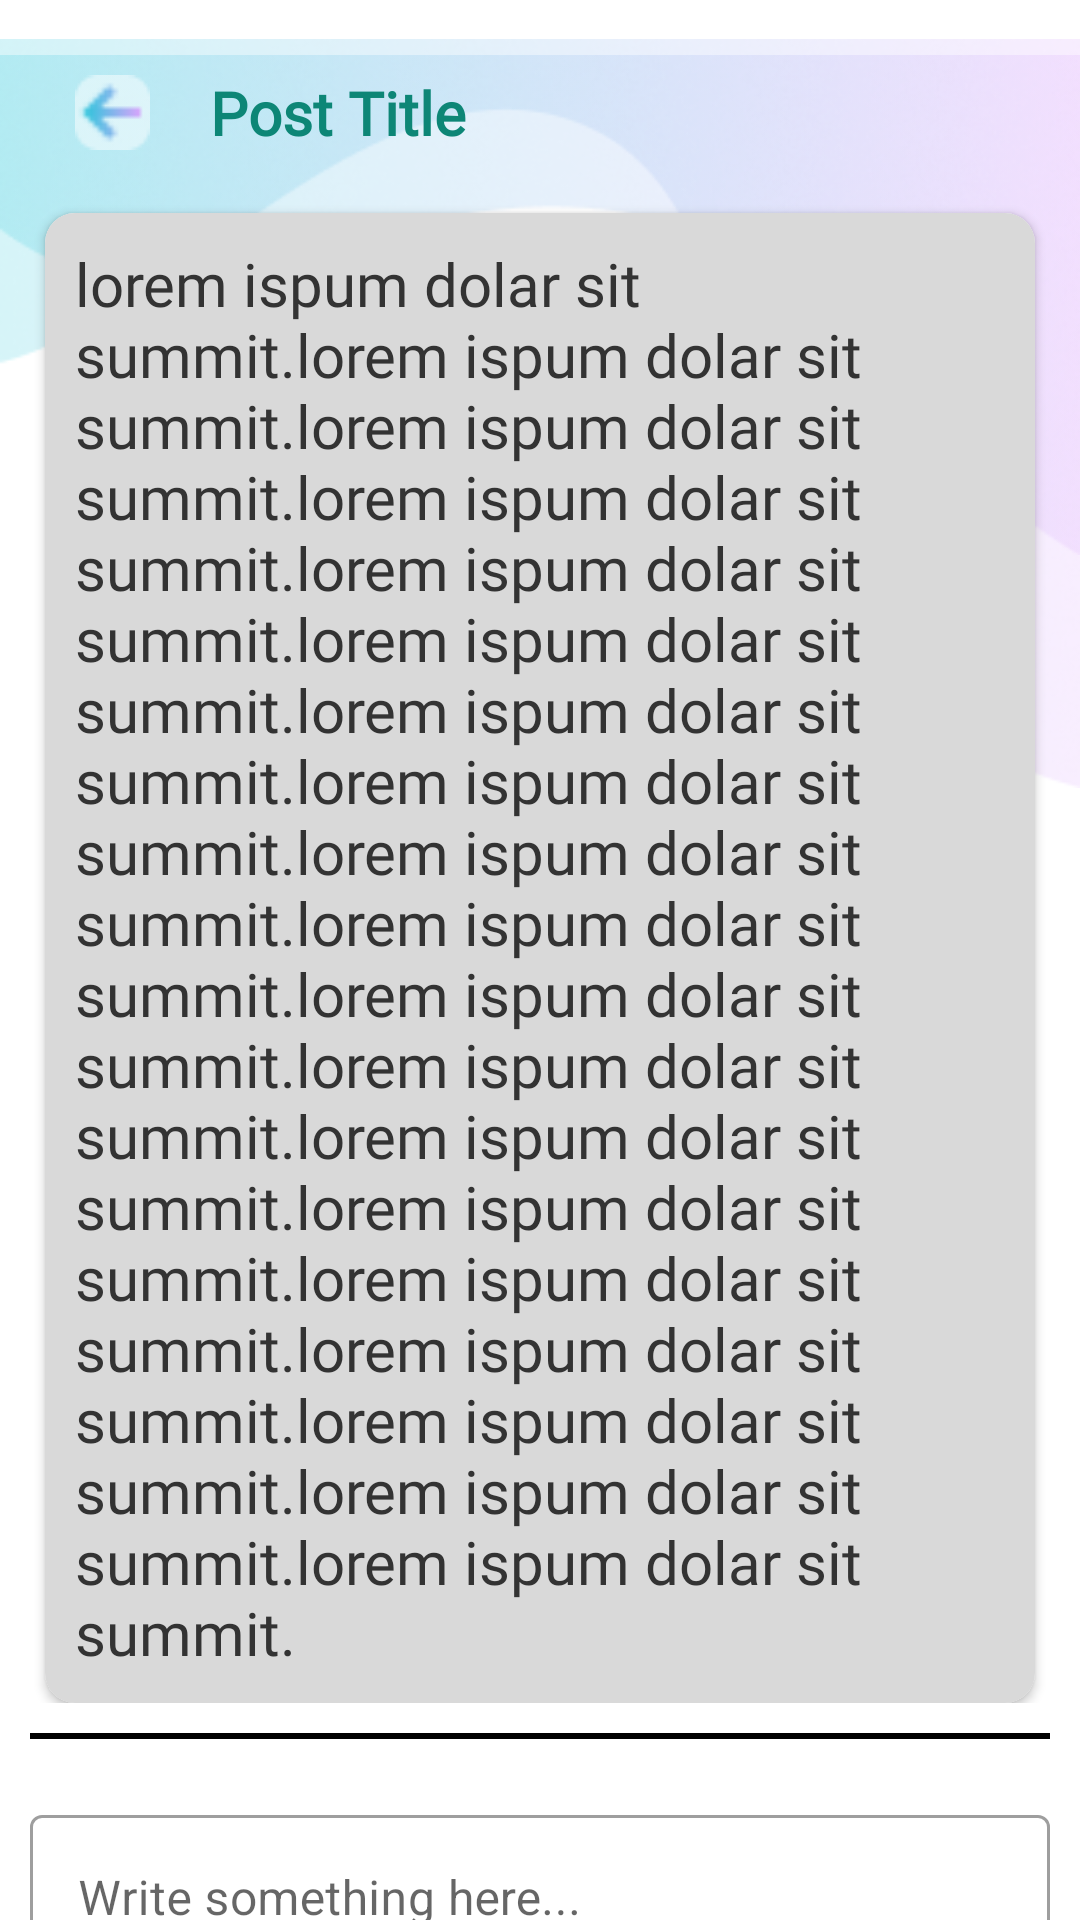

Icon click points for this 1080x1920 phone screenshot, format (x,y):
arrow left: (112,112)
